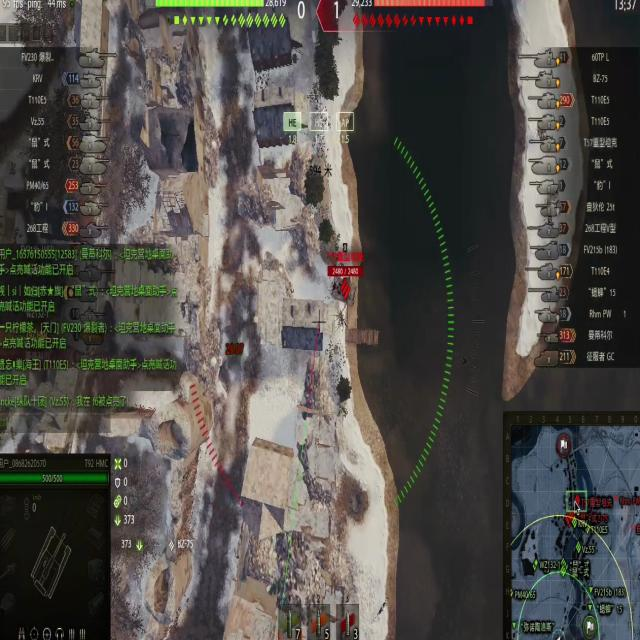tank: (326, 263, 361, 308)
